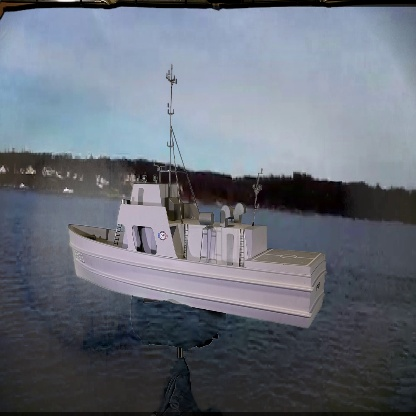YP689: (73, 71, 326, 328)
